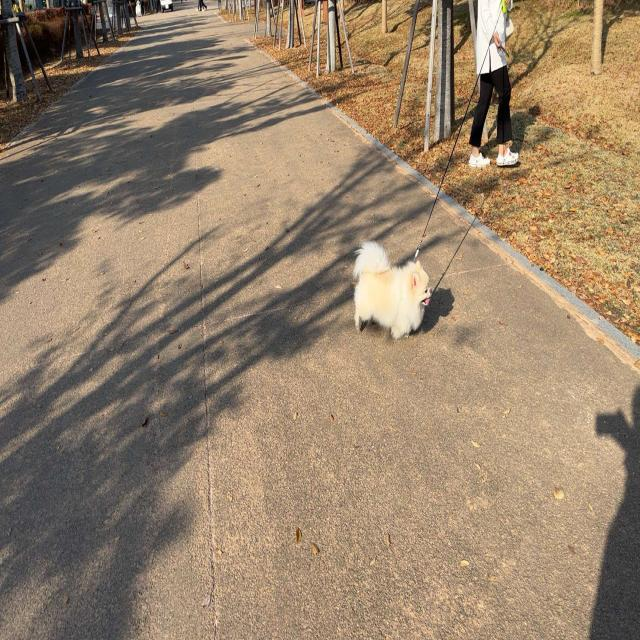Leashed_Dog: (352, 45, 488, 342)
